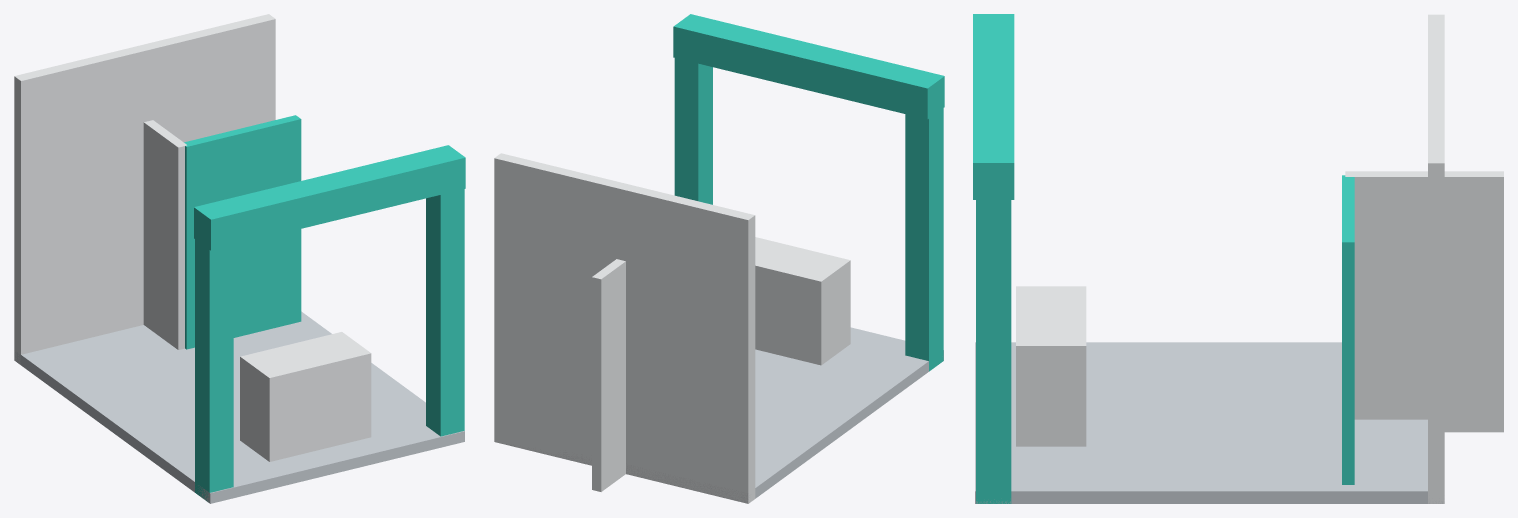
3 views of the same model, side by side, from view 1: azimuth 30°, elevation 25°; view 2: azimuth 150°, elevation 25°; view 3: azimuth 270°, elevation 25° (orthographic). The views are drawn at different scales.
Visible parts, largest first — view 1: Exhibition Booth Concept; view 2: Exhibition Booth Concept; view 3: Exhibition Booth Concept.
Boxes of the visible parts, box(x1,y1,x2,y2) form: Exhibition Booth Concept: box(14, 14, 465, 503); Exhibition Booth Concept: box(494, 14, 944, 503); Exhibition Booth Concept: box(973, 14, 1503, 503).
Bounding box in the file's own units: 3 × 3.2 × 4.52.
